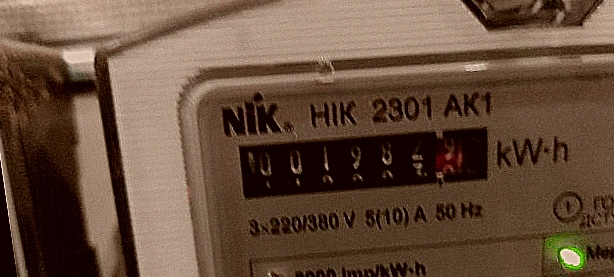0: (285, 145, 306, 176), (255, 146, 275, 177)
1: (316, 141, 332, 171)
2: (406, 130, 428, 162)
8: (376, 136, 396, 166)
9: (438, 132, 461, 162), (346, 139, 365, 170)
screen: (218, 94, 510, 228)
